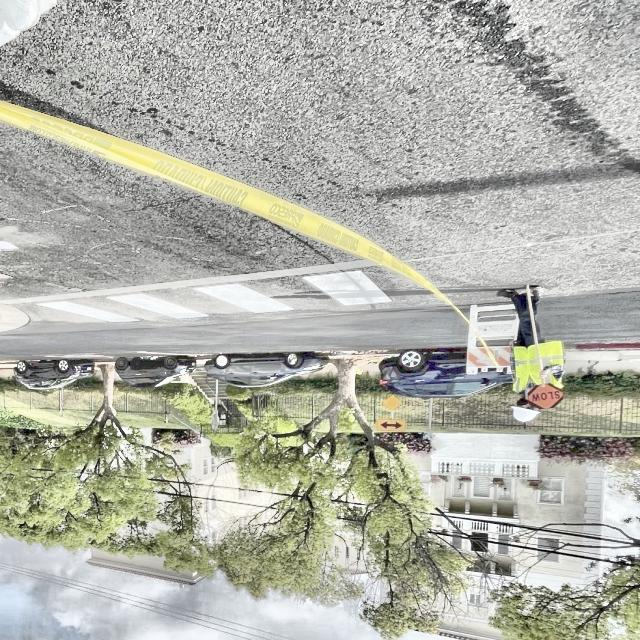crosswalk: (38, 272, 391, 325)
